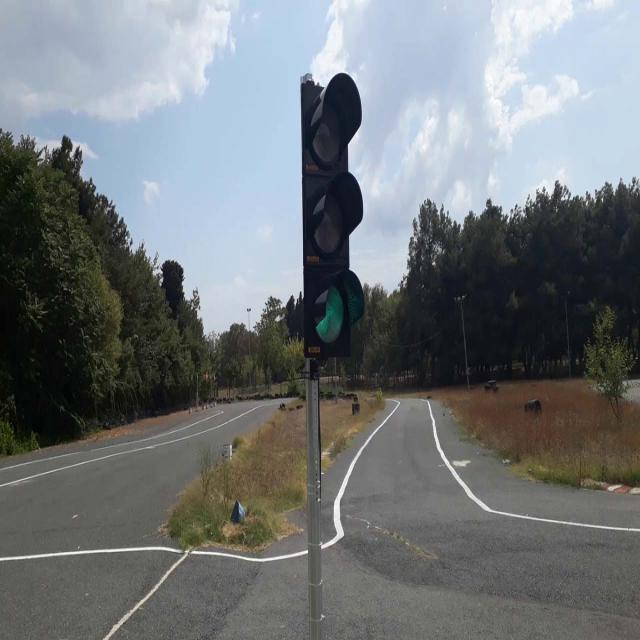yesil: (301, 72, 363, 352)
